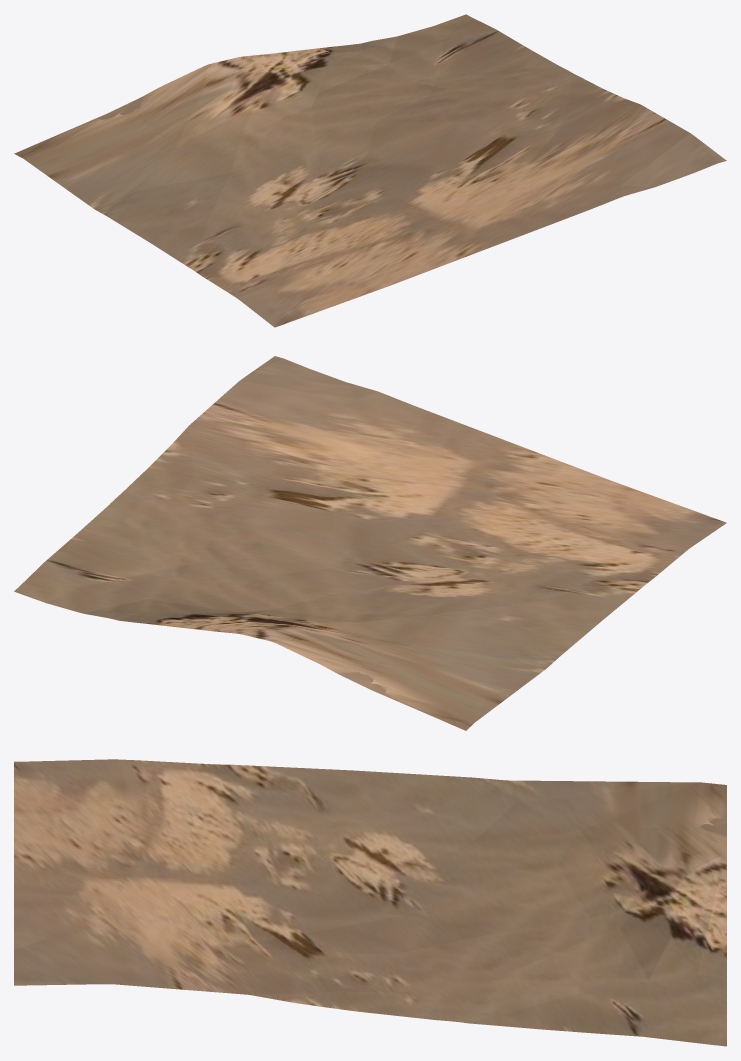
3 views of the same model, one above another, from view 1: azimuth 30°, elevation 25°; view 2: azimuth 150°, elevation 25°; view 3: azimuth 270°, elevation 25° (orthographic). The views are drawn at different scales.
Size of the model in its own units: 1.04 by 0.165 by 1.04.
3 materials, 3 textured.
